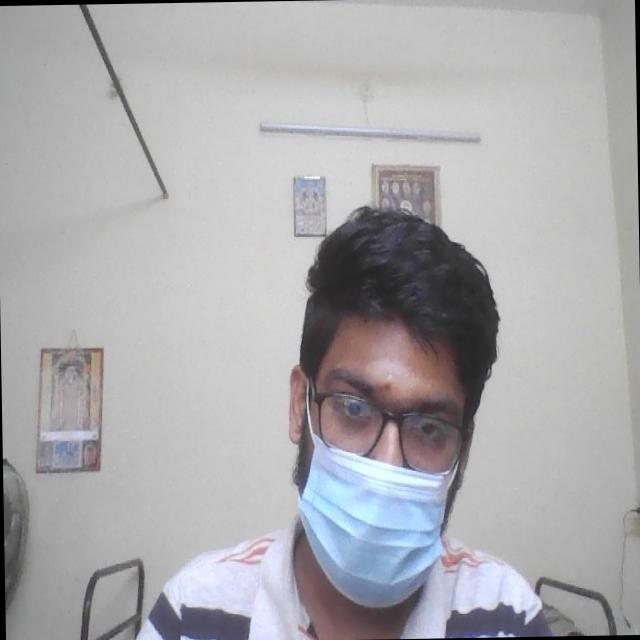Focused: (306, 332, 474, 562)
